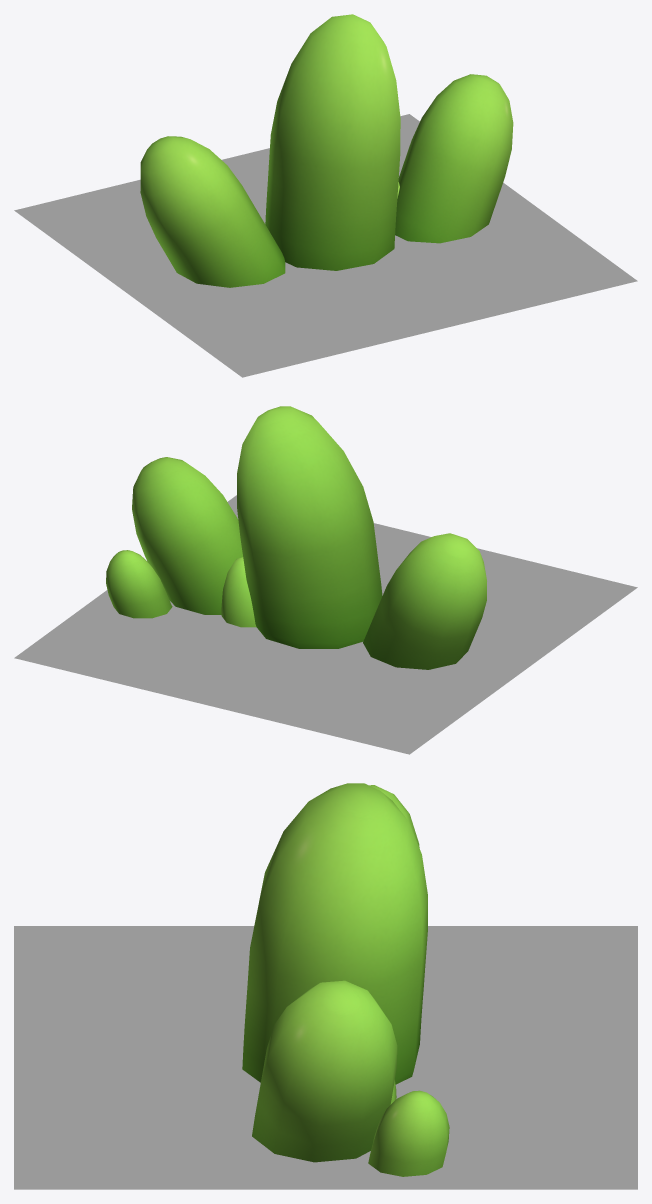
The model's file is GrassSample.fbx.
3 views of the same model, one above another, from view 1: azimuth 30°, elevation 25°; view 2: azimuth 150°, elevation 25°; view 3: azimuth 270°, elevation 25° (orthographic). The views are drawn at different scales.
Parts seen in each view (by area): view 1: Grass, GrassGrid; view 2: Grass, GrassGrid; view 3: GrassGrid, Grass.
Boxes of the visible parts, x1,y1,x2,y2 form: Grass: (140,14,513,287); GrassGrid: (14,114,637,377); Grass: (106,406,486,669); GrassGrid: (14,495,637,754); GrassGrid: (14,926,637,1189); Grass: (242,783,449,1176).
Bounding box in the file's own units: 1 × 0.5348 × 1.
Materials: 3 (1 with a texture image).
